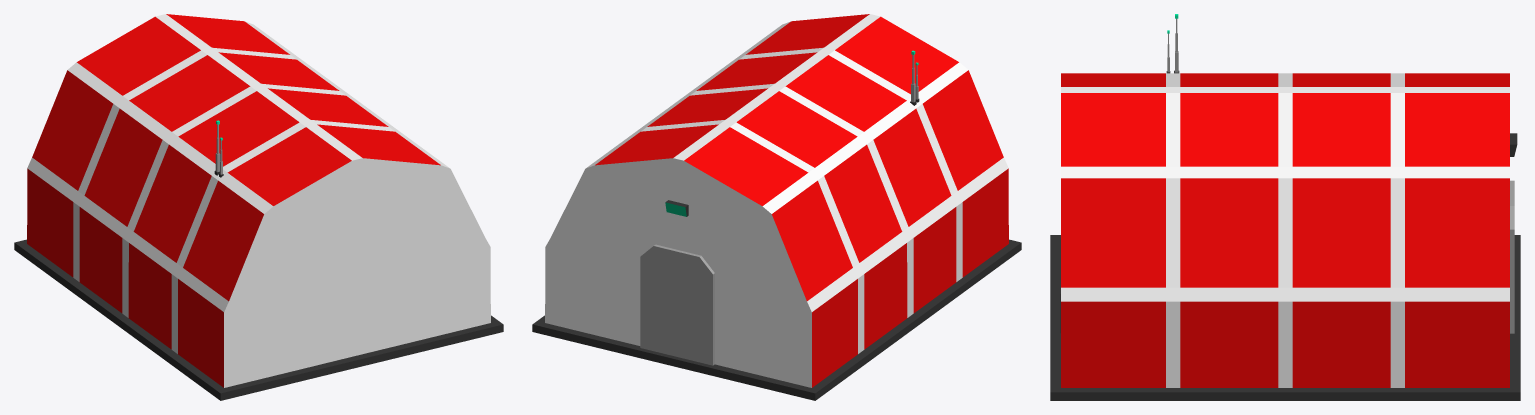
Rendered from Farm.fbx.
3 views of the same model, side by side, from view 1: azimuth 30°, elevation 25°; view 2: azimuth 150°, elevation 25°; view 3: azimuth 270°, elevation 25° (orthographic). The views are drawn at different scales.
Parts seen in each view (by area): view 1: Farm; view 2: Farm; view 3: Farm.
Boxes of the visible parts, x1=… form: Farm: x1=14, y1=14, x2=503, y2=400; Farm: x1=532, y1=14, x2=1021, y2=400; Farm: x1=1050, y1=14, x2=1520, y2=400.
Bounding box in the file's own units: 608 × 465 × 768.
